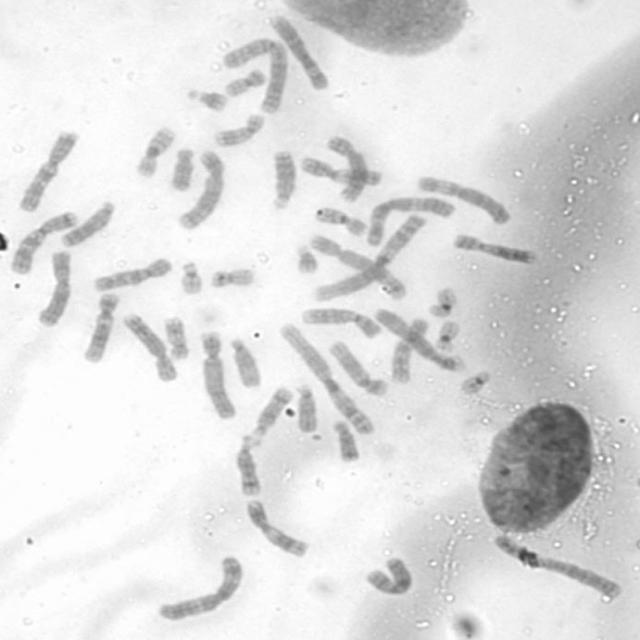A1: (275, 320, 377, 436), (308, 210, 426, 303)
A2: (489, 531, 623, 600), (220, 34, 290, 116)
A3: (153, 552, 245, 622), (362, 193, 457, 246)
B4: (370, 304, 468, 374), (195, 328, 240, 421)
B5: (307, 226, 411, 301), (172, 147, 227, 232)
C10: (90, 255, 174, 293), (386, 316, 430, 385)
C11: (242, 496, 311, 559), (298, 153, 386, 188)
C12: (326, 338, 391, 398), (79, 288, 120, 364)
C6: (414, 172, 514, 225), (266, 11, 332, 90)
C7: (14, 126, 80, 214), (6, 208, 78, 276)
C8: (119, 311, 180, 384), (322, 134, 370, 202)
C9: (298, 304, 382, 341), (450, 230, 536, 265)
D13: (58, 196, 119, 249), (267, 147, 298, 211)
D14: (246, 384, 294, 442), (232, 437, 263, 499)
D15: (227, 334, 264, 389), (292, 380, 320, 434)
E16: (131, 124, 177, 178), (312, 203, 370, 238)
E17: (210, 109, 265, 148), (160, 313, 191, 361)
E18: (330, 417, 362, 464), (168, 144, 197, 192)
F19: (422, 284, 458, 319), (432, 320, 467, 353)
F20: (221, 66, 267, 98), (206, 264, 258, 289)
G21: (182, 85, 230, 114), (291, 241, 320, 275)
G22: (177, 258, 205, 296), (457, 368, 492, 396)
X: (33, 245, 75, 328), (360, 552, 415, 598)
